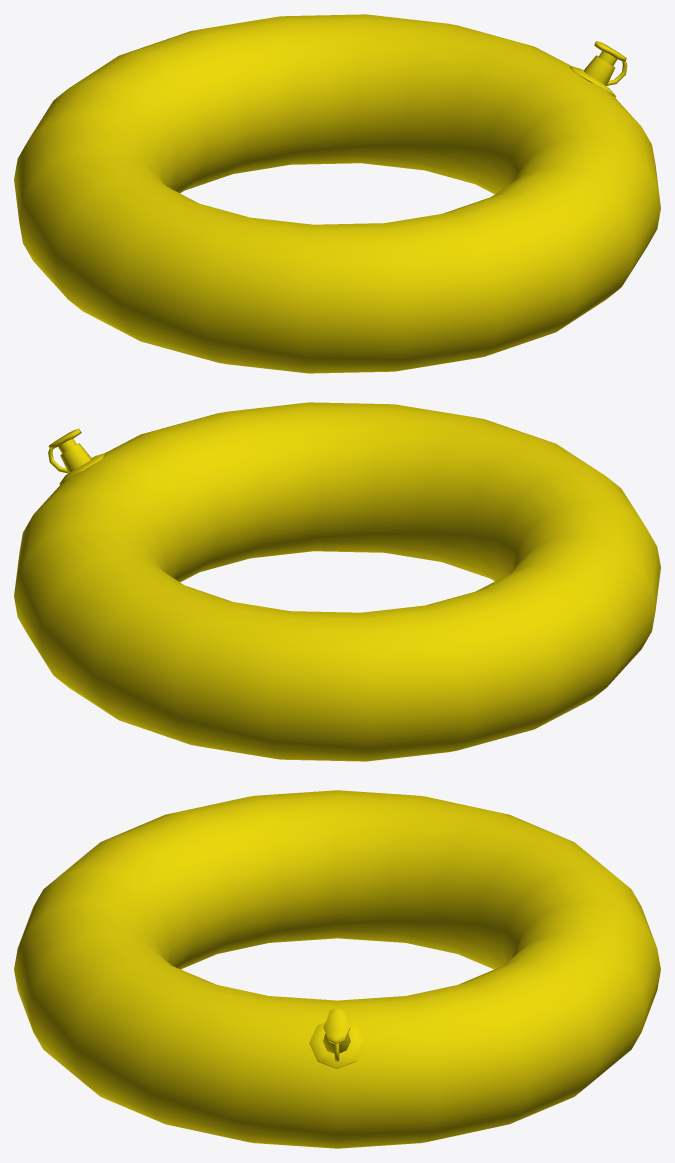
The model's file is Buoy.fbx.
3 views of the same model, one above another, from view 1: azimuth 30°, elevation 25°; view 2: azimuth 150°, elevation 25°; view 3: azimuth 270°, elevation 25° (orthographic).
Visible parts, largest first — view 1: Buoy; view 2: Buoy; view 3: Buoy.
Boxes of the visible parts, left/top/right/bottom form: Buoy: left=14, top=14, right=660, bottom=373; Buoy: left=14, top=402, right=660, bottom=761; Buoy: left=14, top=790, right=660, bottom=1148.
Bounding box in the file's own units: 508 × 133 × 501.
